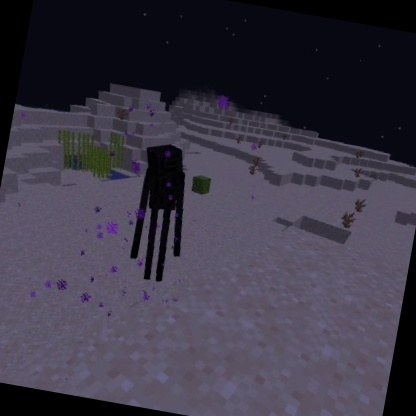enderman: (120, 137, 203, 288)
